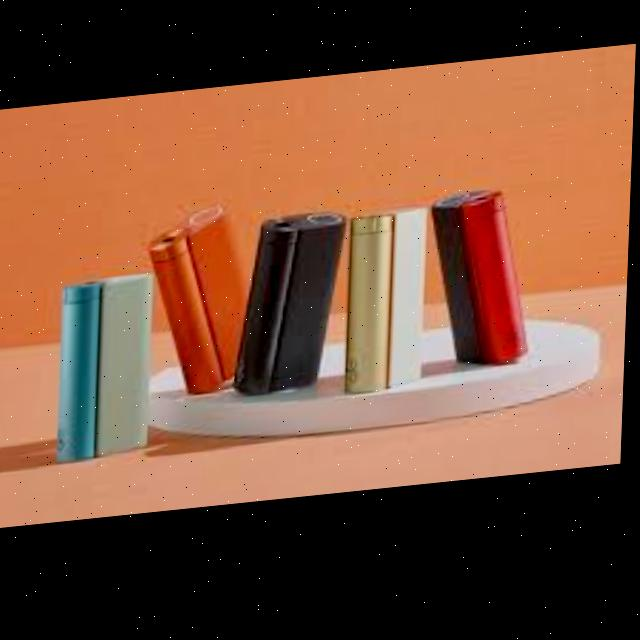vape: (147, 203, 254, 404), (236, 217, 349, 404), (59, 272, 163, 470), (430, 197, 539, 382), (346, 215, 430, 404)
